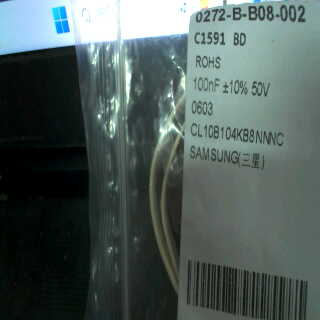100nF: (189, 77, 223, 92)
